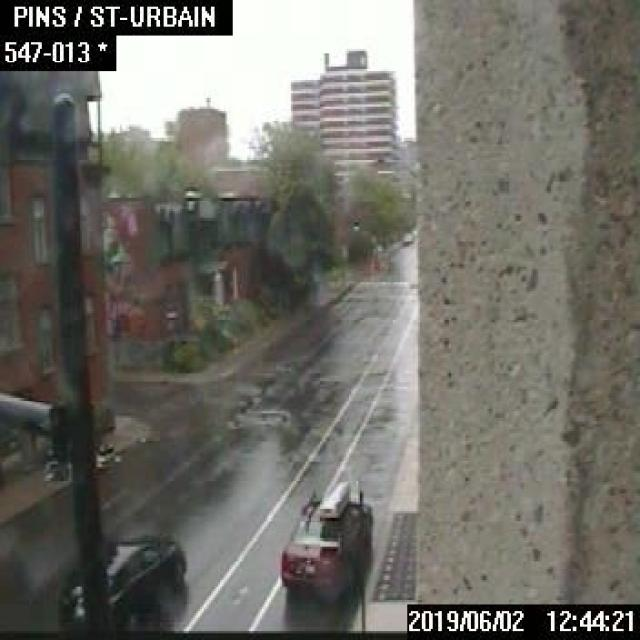vehicle: (57, 531, 185, 627), (280, 478, 373, 593)
